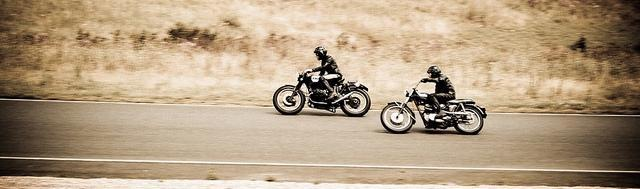motorcycle: (379, 79, 489, 136), (272, 75, 372, 117)
